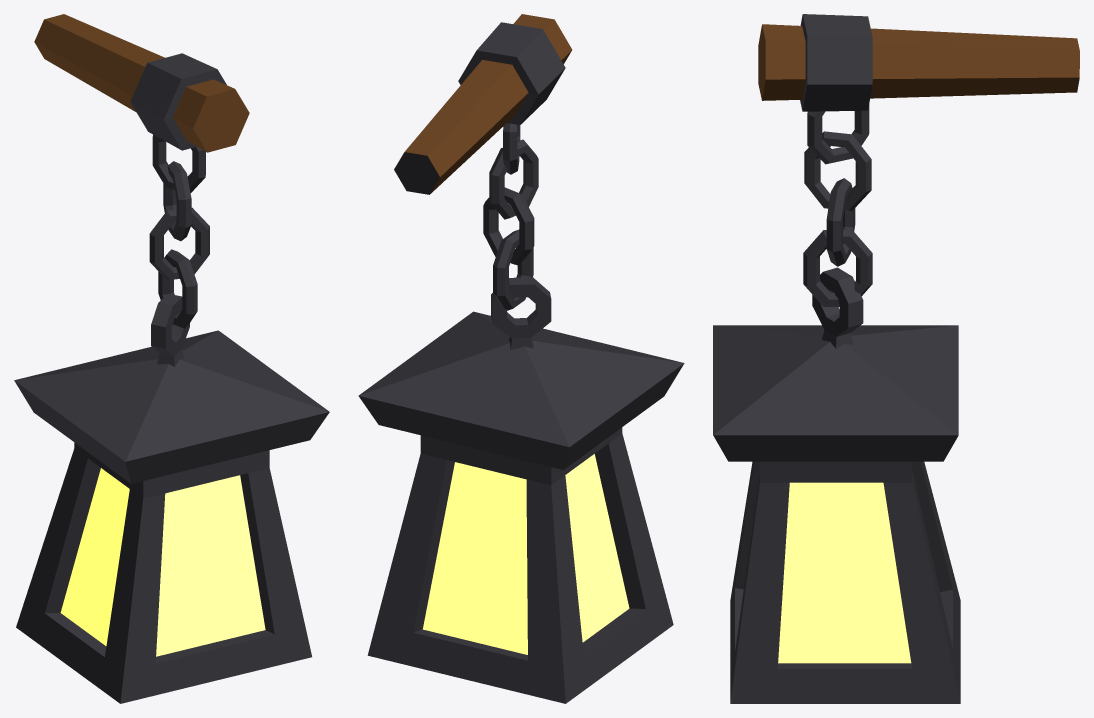
Rendered from Light.gltf.
3 renders of one model, left to right at view 1: azimuth 30°, elevation 25°; view 2: azimuth 150°, elevation 25°; view 3: azimuth 270°, elevation 25°, orthographic. The views are drawn at different scales.
Visible parts, largest first — view 1: Light; view 2: Light; view 3: Light.
Part boxes in pixels (box(x1,y1,x2,y2)): Light: box(14, 14, 329, 703); Light: box(358, 14, 684, 703); Light: box(713, 14, 1079, 703).
Bounding box in the file's own units: 0.26 × 0.7021 × 0.3662.
